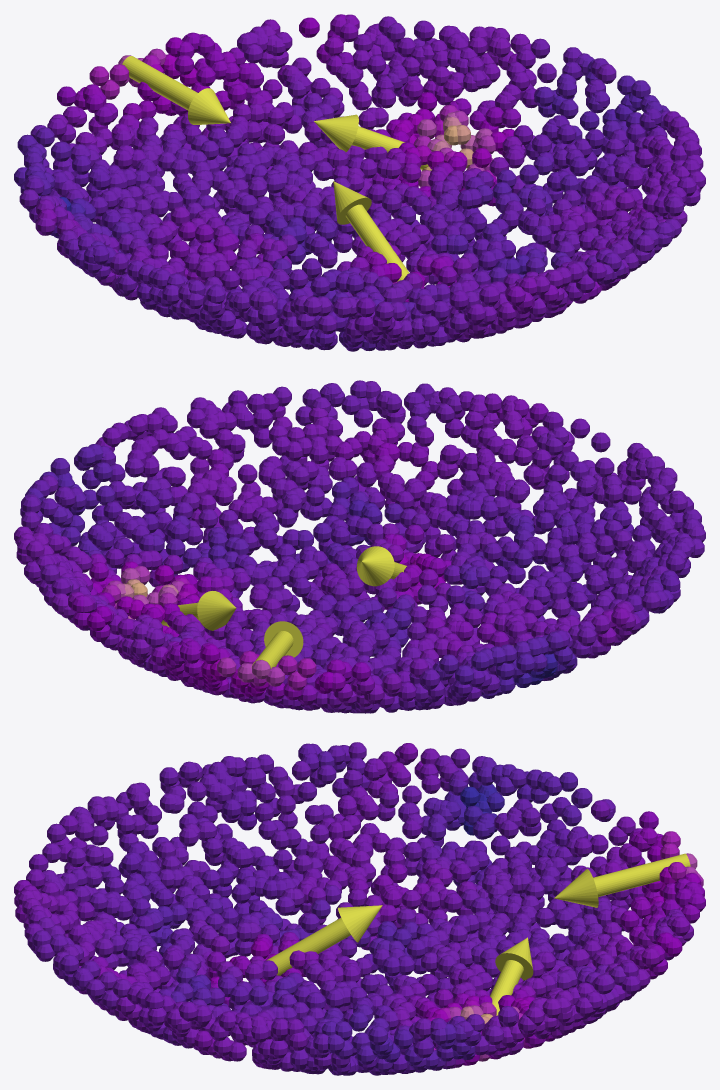
File: pred_heatmap_1.glb
3 renders of one model, top to bottom at view 1: azimuth 30°, elevation 25°; view 2: azimuth 150°, elevation 25°; view 3: azimuth 270°, elevation 25°, orthographic.
Parts seen in each view (by area): view 1: world; view 2: world; view 3: world.
Boxes of the visible parts, x1,y1,x2,y2 form: world: (14,14,705,351); world: (14,380,705,713); world: (14,742,705,1075).
Size of the model in its own units: 2.05 by 0.3631 by 2.05.
